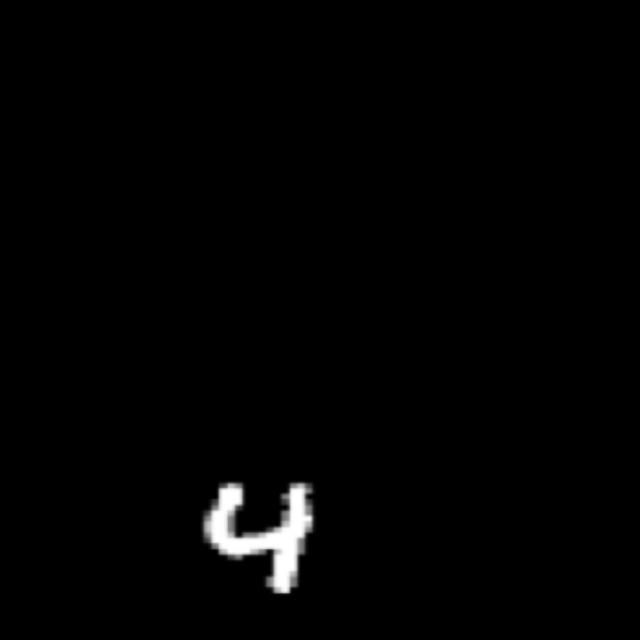four -4-: (183, 457, 336, 615)
